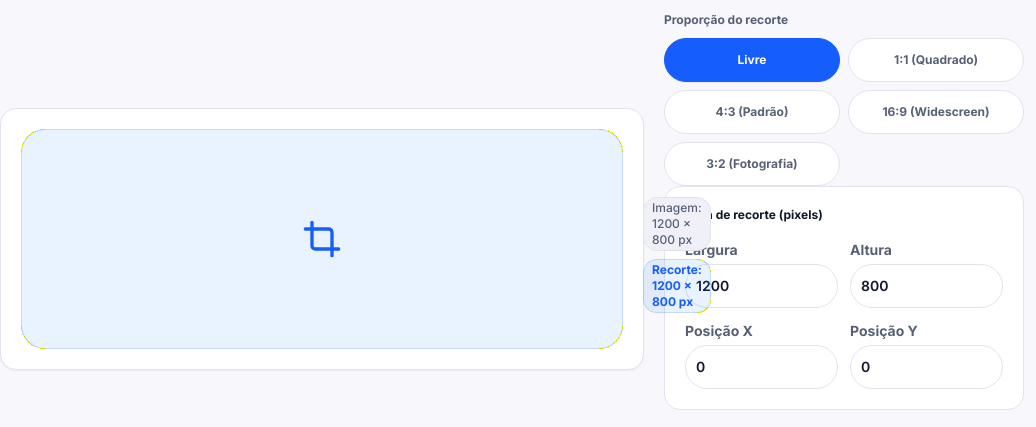
preserva a proporção ao reduzir largura e limita Y pela altura do recorte
The image size is (1036, 427).
Click the button "1:1 (Quadrado)" at (936, 60), box [848,38,1024,82]
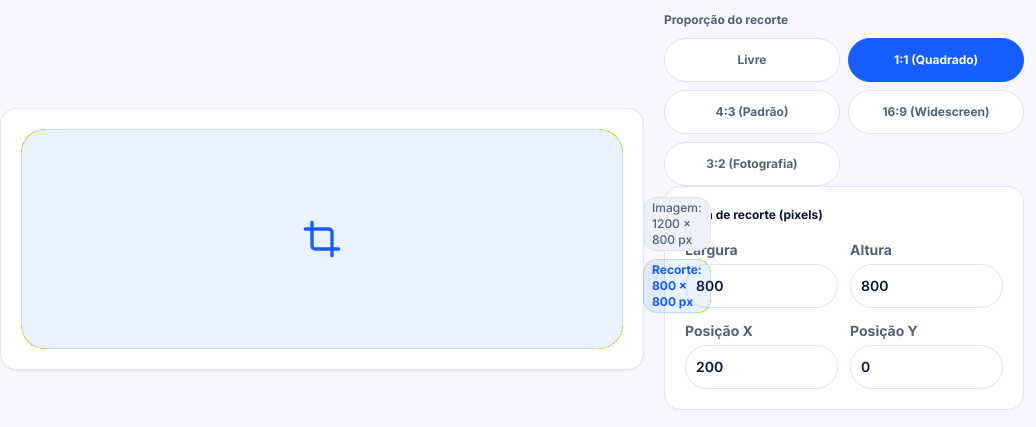
Replace the text in the number field labelled "Largura" with "300" at (762, 286), box [685,264,838,308]
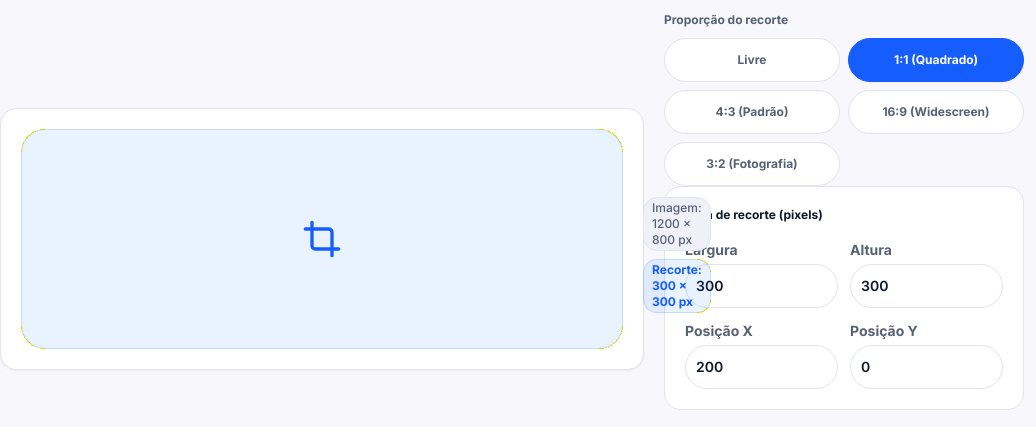
Expected: the number field labelled "Altura" holds "300", [850,264,1003,308]
Replace the text in the number field labelled "Posição Y" with "750" at (926, 367), box [850,345,1003,389]
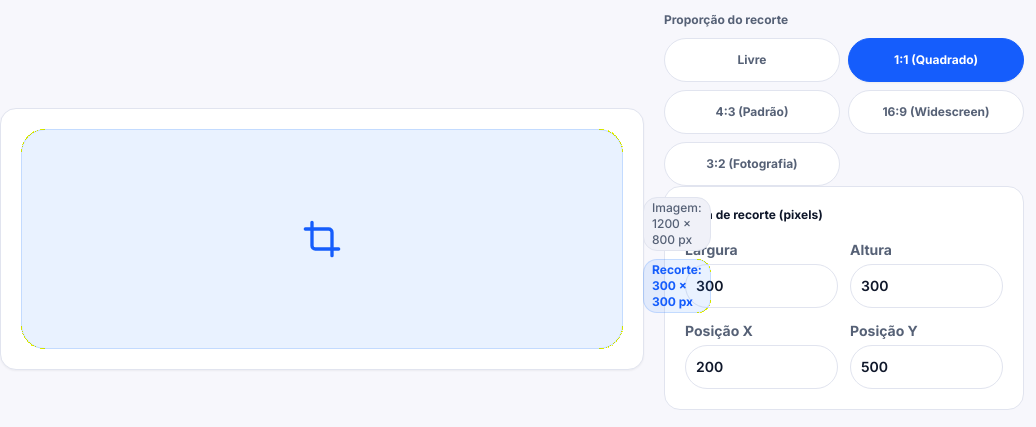
Expected: the number field labelled "Posição Y" holds "500", [850,345,1003,389]
